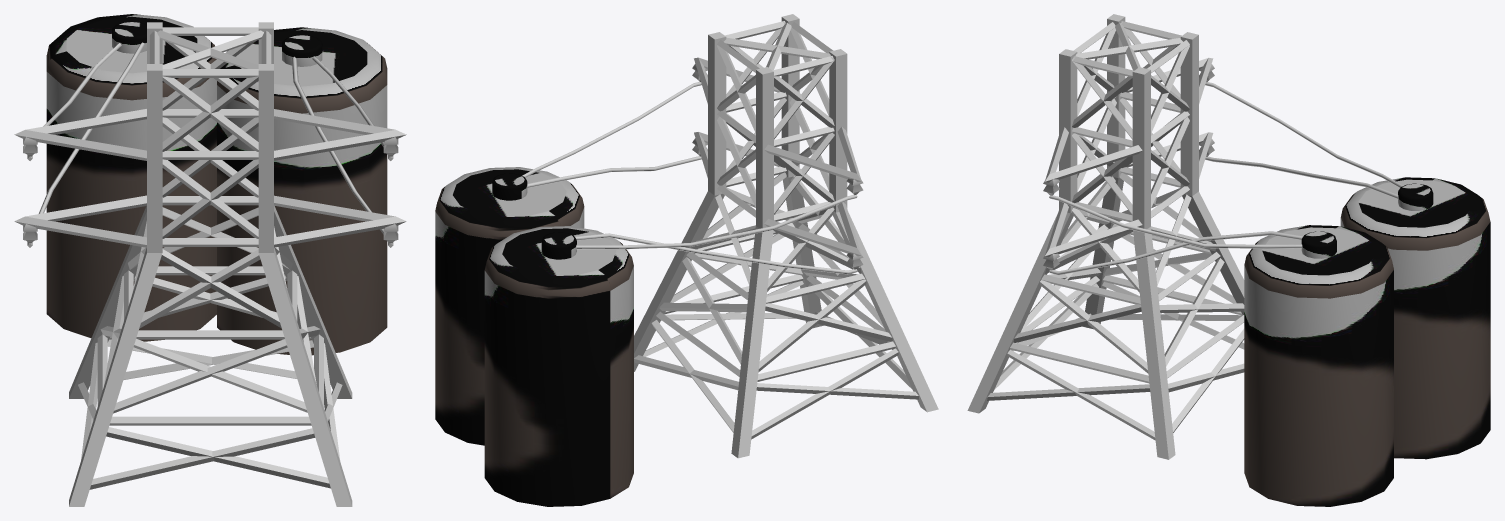
Rendered from Energy Storage.FBX.
3 renders of one model, left to right at view 1: azimuth 30°, elevation 25°; view 2: azimuth 150°, elevation 25°; view 3: azimuth 270°, elevation 25°, orthographic. The views are drawn at different scales.
Parts seen in each view (by area): view 1: Box004, Cylinder031, Cylinder032, Box008; view 2: Box004, Cylinder032, Cylinder031, Box008; view 3: Box004, Cylinder031, Cylinder032, Box008.
Boxes of the visible parts, x1,y1,x2,y2 form: Box004: [14, 22, 406, 506]; Cylinder031: [217, 27, 387, 355]; Cylinder032: [46, 14, 216, 341]; Box008: [27, 42, 393, 247]; Box004: [634, 14, 938, 458]; Cylinder032: [484, 226, 633, 506]; Cylinder031: [435, 167, 584, 445]; Box008: [522, 82, 857, 274]; Box004: [967, 14, 1244, 459]; Cylinder031: [1244, 225, 1393, 506]; Cylinder032: [1340, 177, 1490, 459]; Box008: [1049, 82, 1402, 275].
Size of the model in its own units: 91.34 by 79.65 by 109.
